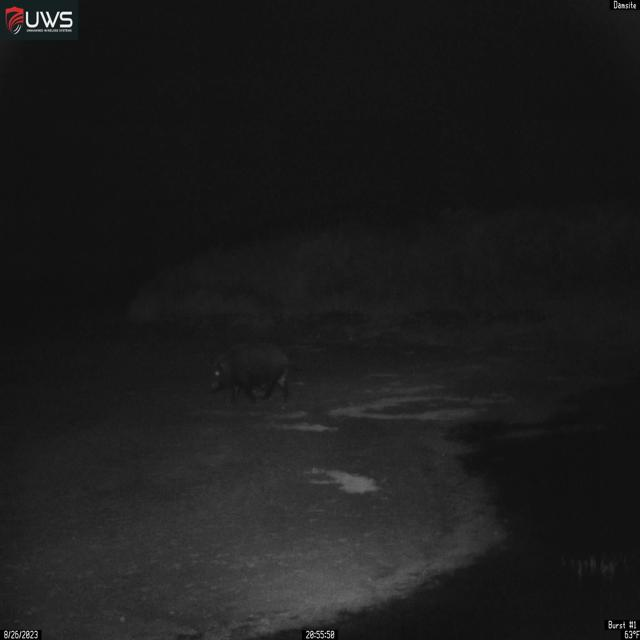pig: (207, 340, 294, 405)
